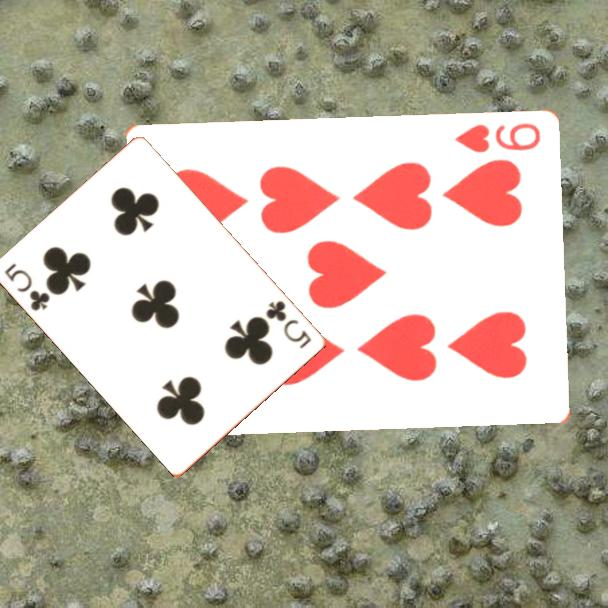c05: (262, 297, 315, 352), (1, 260, 53, 314)
h09: (450, 120, 543, 156)
